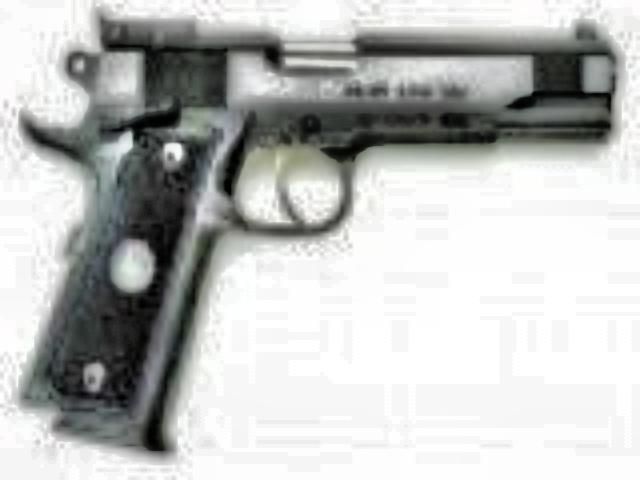pistol: (16, 4, 616, 444)
